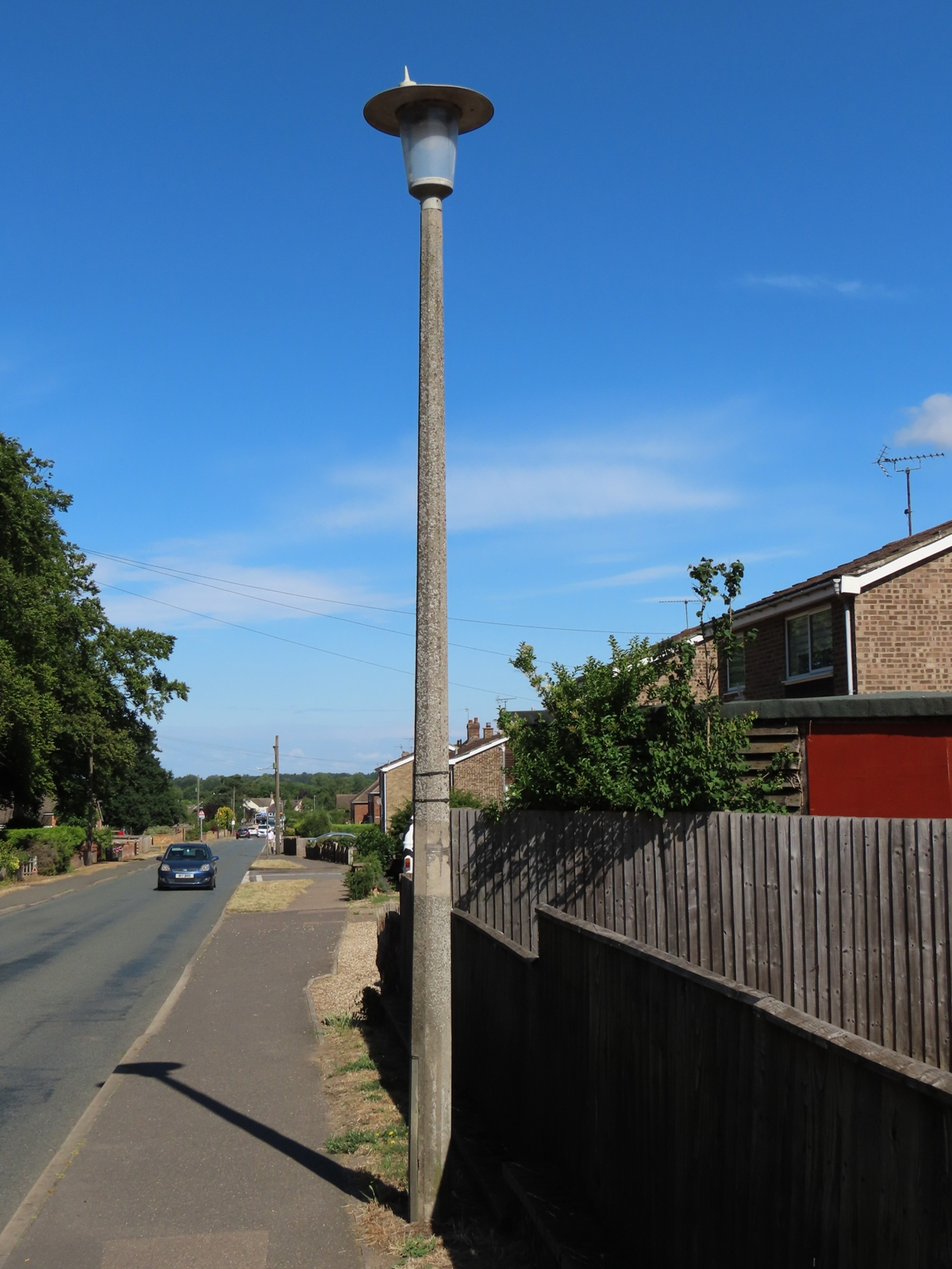light_pole: (384, 83, 484, 1244)
